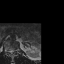CCS_normal: (10, 49, 12, 55)
LFS_severe_stenosis: (14, 49, 15, 52)
LLS_normal: (12, 49, 14, 54)
RFS_stenosis: (7, 49, 9, 53)
RLS_normal: (9, 49, 11, 54)
